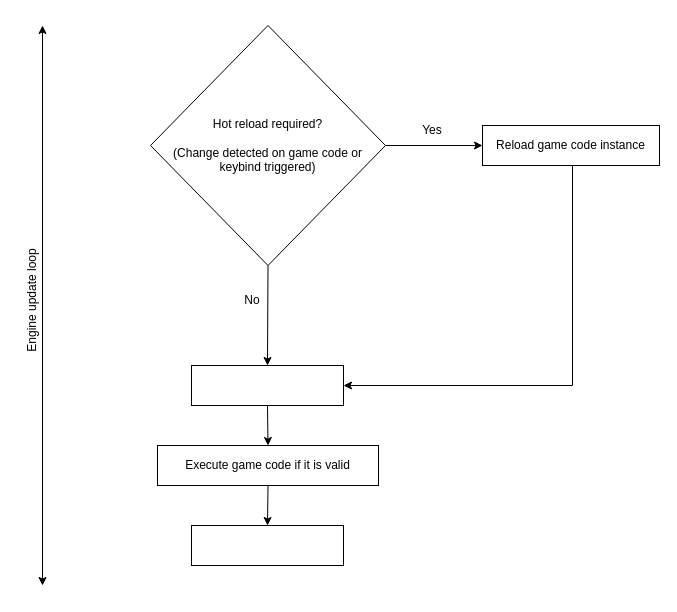
This 677x612 diagram has some shape labels left out. The shapes that lost their labels are listed below. From the top down, each one's centre as x and y in pixels, then its label:
At (x=267, y=385): "Read user inputs".
At (x=267, y=545): "Render scene".
